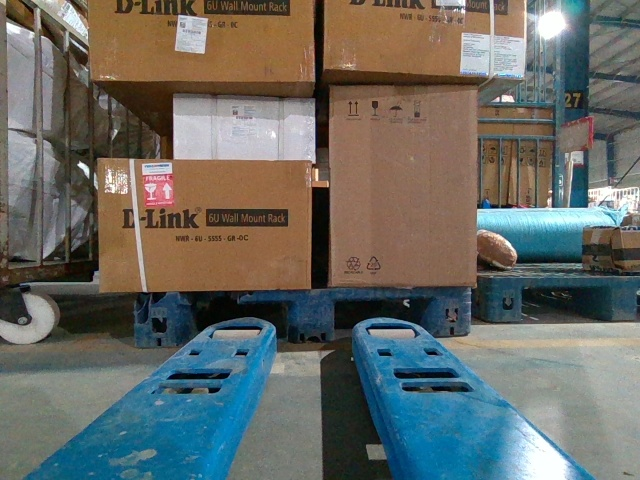block: (132, 289, 182, 350), (289, 287, 337, 346), (433, 286, 472, 340), (484, 276, 520, 324), (607, 278, 636, 322)
front: (136, 285, 469, 345)
hole pallet: (176, 296, 294, 348), (331, 296, 437, 348), (517, 282, 612, 321)
